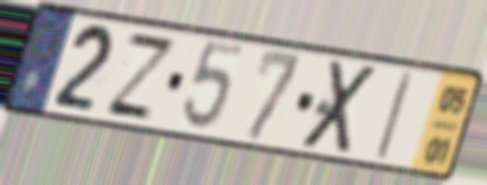2: (46, 18, 121, 122)
5: (179, 36, 248, 135)
7: (248, 45, 305, 145)
I: (371, 69, 417, 164)
X: (296, 58, 383, 157)
Z: (100, 29, 181, 125)
